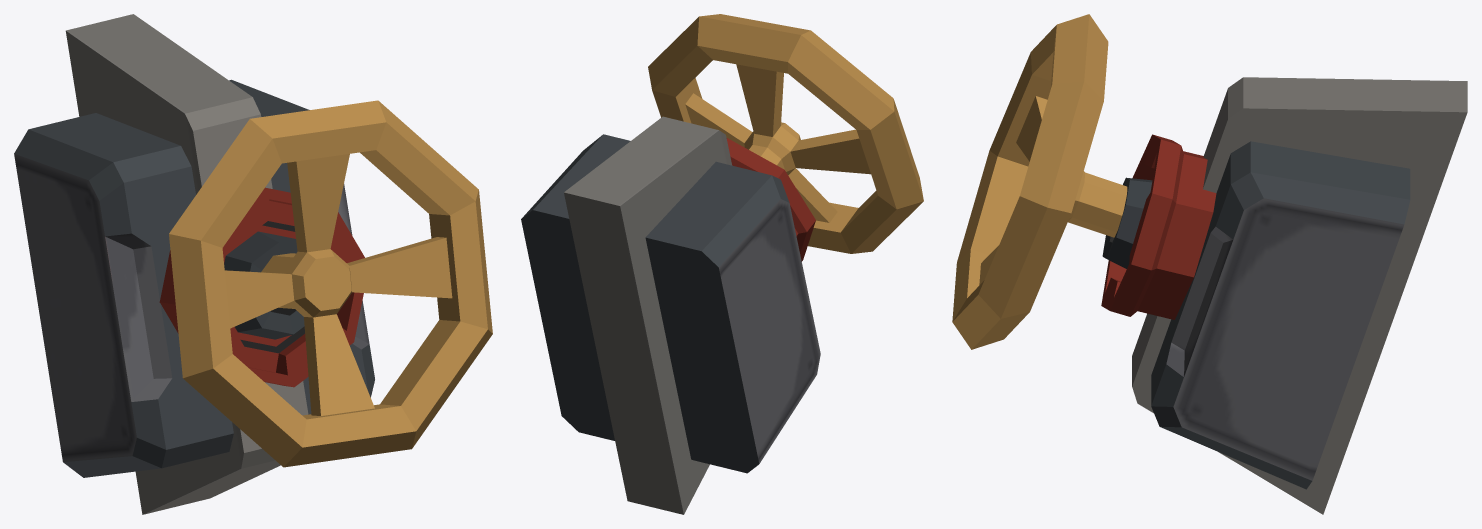
The model's file is SM_Prop_Pipe_Attatchment_02.fbx.
3 renders of one model, left to right at view 1: azimuth 30°, elevation 25°; view 2: azimuth 150°, elevation 25°; view 3: azimuth 270°, elevation 25°, orthographic. The views are drawn at different scales.
Parts seen in each view (by area): view 1: SM_Prop_Pipe_Attatchment_02, SM_Prop_Pipe_Attatchment_Valve; view 2: SM_Prop_Pipe_Attatchment_02, SM_Prop_Pipe_Attatchment_Valve; view 3: SM_Prop_Pipe_Attatchment_02, SM_Prop_Pipe_Attatchment_Valve.
Boxes of the visible parts, box(x1,y1,x2,y2) form: SM_Prop_Pipe_Attatchment_02: box(14, 14, 374, 514); SM_Prop_Pipe_Attatchment_Valve: box(169, 100, 492, 467); SM_Prop_Pipe_Attatchment_02: box(521, 116, 820, 514); SM_Prop_Pipe_Attatchment_Valve: box(648, 14, 923, 253); SM_Prop_Pipe_Attatchment_02: box(1101, 77, 1467, 514); SM_Prop_Pipe_Attatchment_Valve: box(952, 14, 1127, 349).
Bounding box in the file's own units: 65.45 × 97.76 × 98.81.
